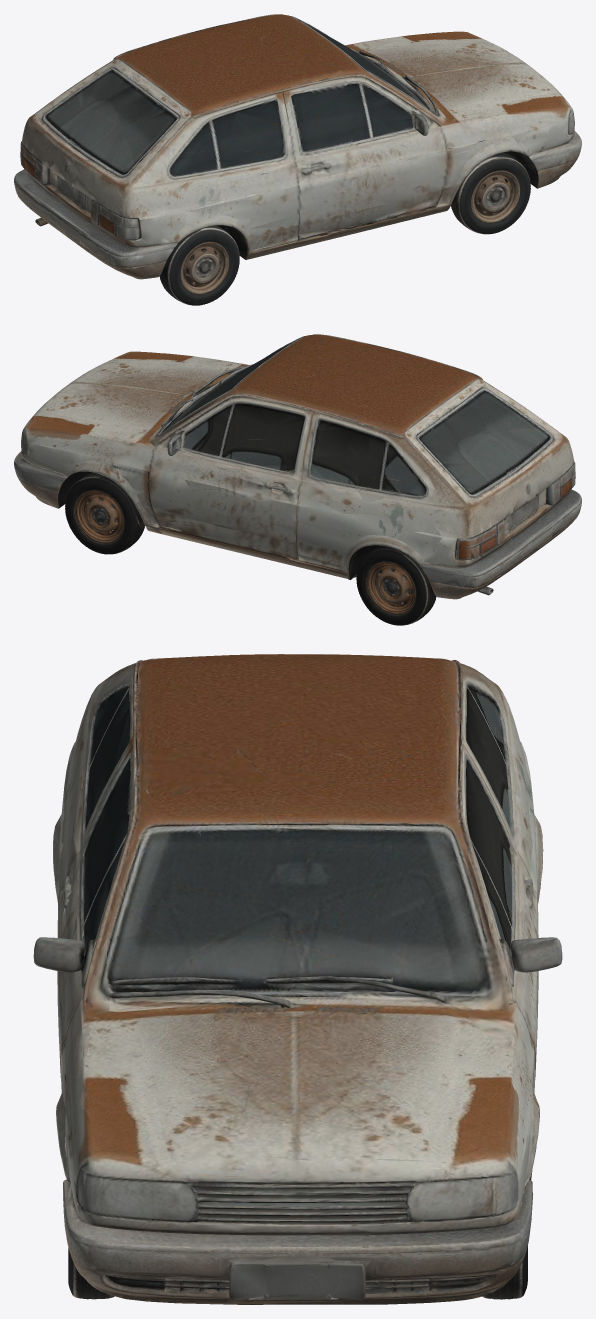
File: hatch-quadrado-abandonado__01a16c1b.glb
3 renders of one model, top to bottom at view 1: azimuth 30°, elevation 25°; view 2: azimuth 150°, elevation 25°; view 3: azimuth 270°, elevation 25°, orthographic. The views are drawn at different scales.
Visible parts, largest first — view 1: hatch-quadrado-abandonado; view 2: hatch-quadrado-abandonado; view 3: hatch-quadrado-abandonado.
Part boxes in pixels (box(x1,y1,x2,y2)): hatch-quadrado-abandonado: box(14, 14, 581, 305); hatch-quadrado-abandonado: box(14, 334, 581, 625); hatch-quadrado-abandonado: box(33, 654, 562, 1304).
Size of the model in its own units: 3.81 by 1.42 by 1.82.
1 material, 1 textured.
